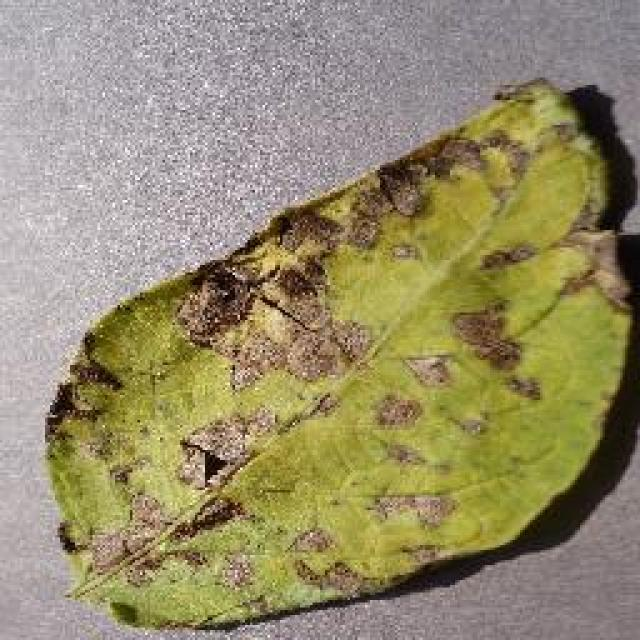early_blight: (40, 73, 638, 635)
